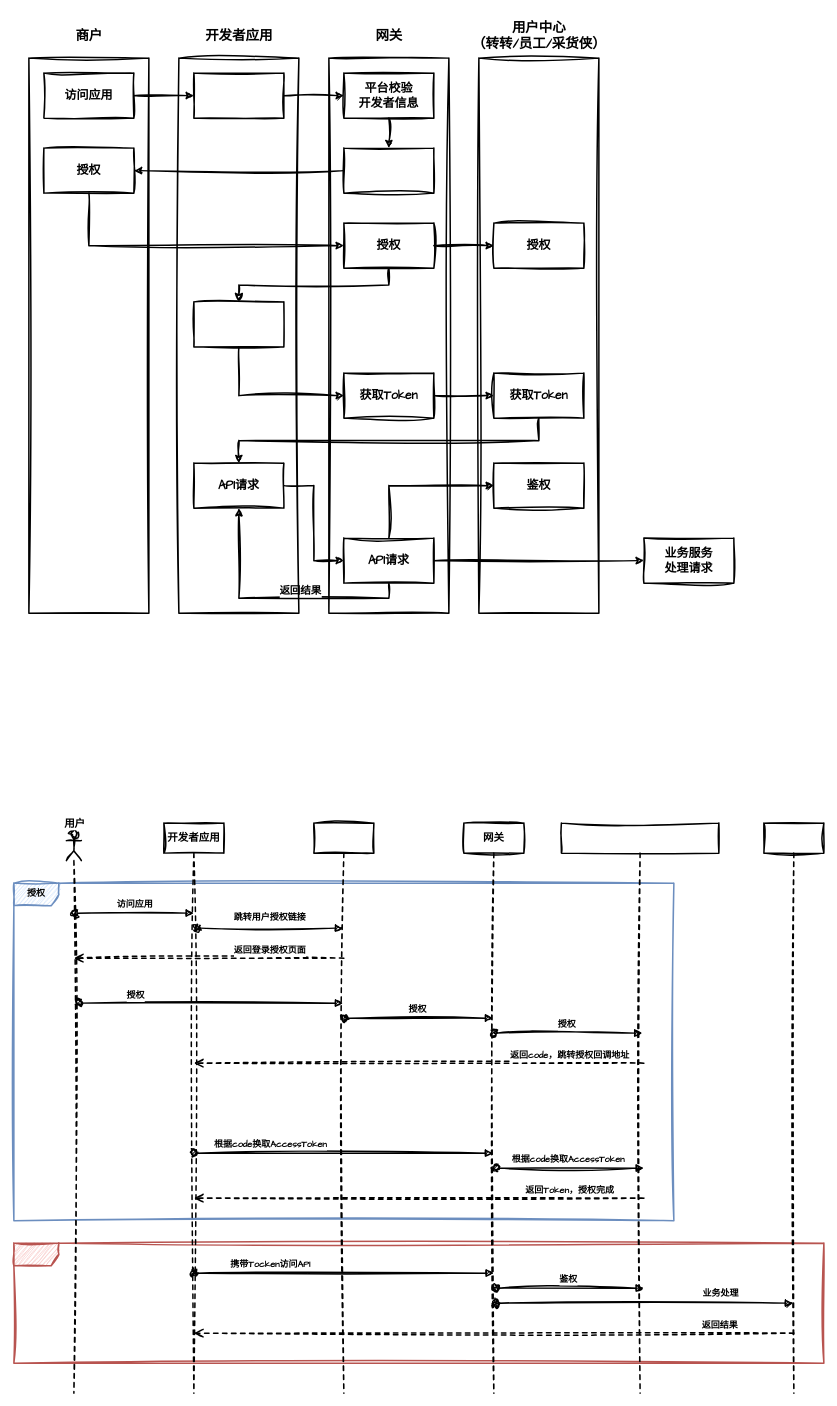
This 837x1406 diagram has some shape labels left out. The shapes that lost their labels are listed below. From the top down, each one's box as (x1, y1, x2, y2) in pixels, then its label:
(193, 72, 284, 118): 跳转用户 授权链接
(343, 147, 434, 194): 打开官方 登录授权页面
(193, 301, 284, 347): 回调地址服务器
(313, 822, 374, 1394): 转转APP
(560, 822, 719, 1394): 用户中心 （zzuser/员工/转转通/采货侠）
(763, 822, 824, 1394): 业务服务
(13, 1242, 824, 1364): 访问
